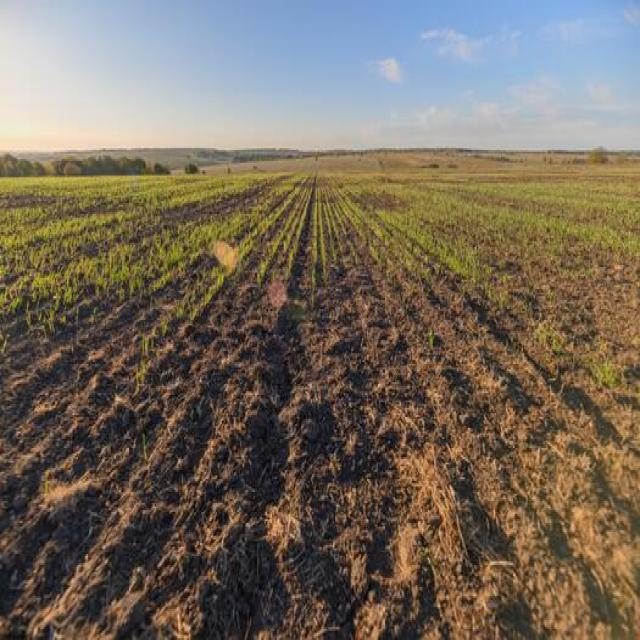suelo_humedo: (69, 178, 566, 576)
